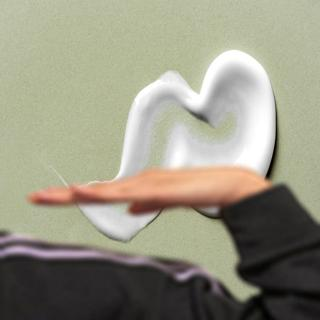Wait: (19, 149, 274, 218)
